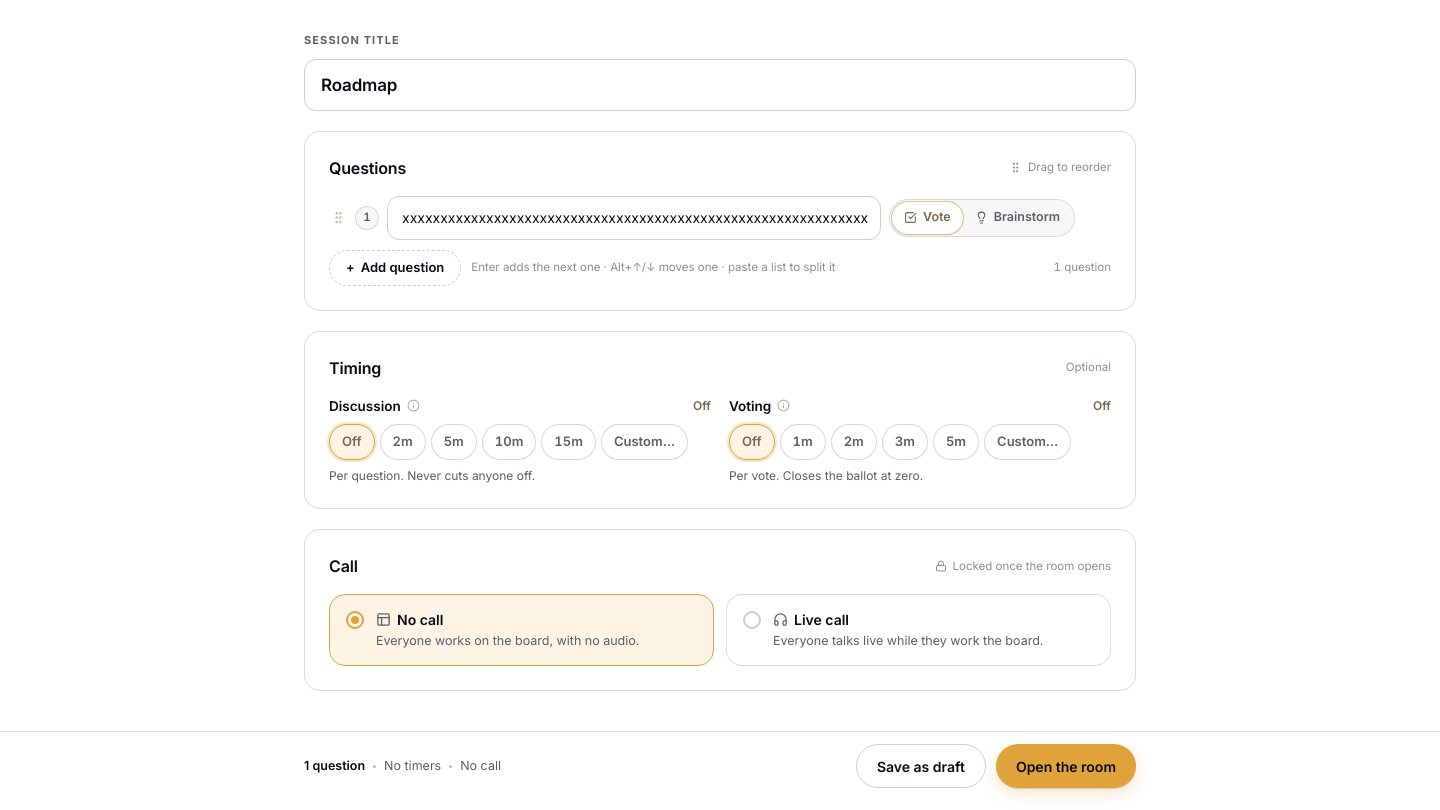
it: SessionQuestionsForm questions › counts the characters once a question nears the limit
Expected: the text "/150" is not shown
Type "yyyyy" into the field named "Question 1" at (634, 218), box [387, 196, 881, 240]
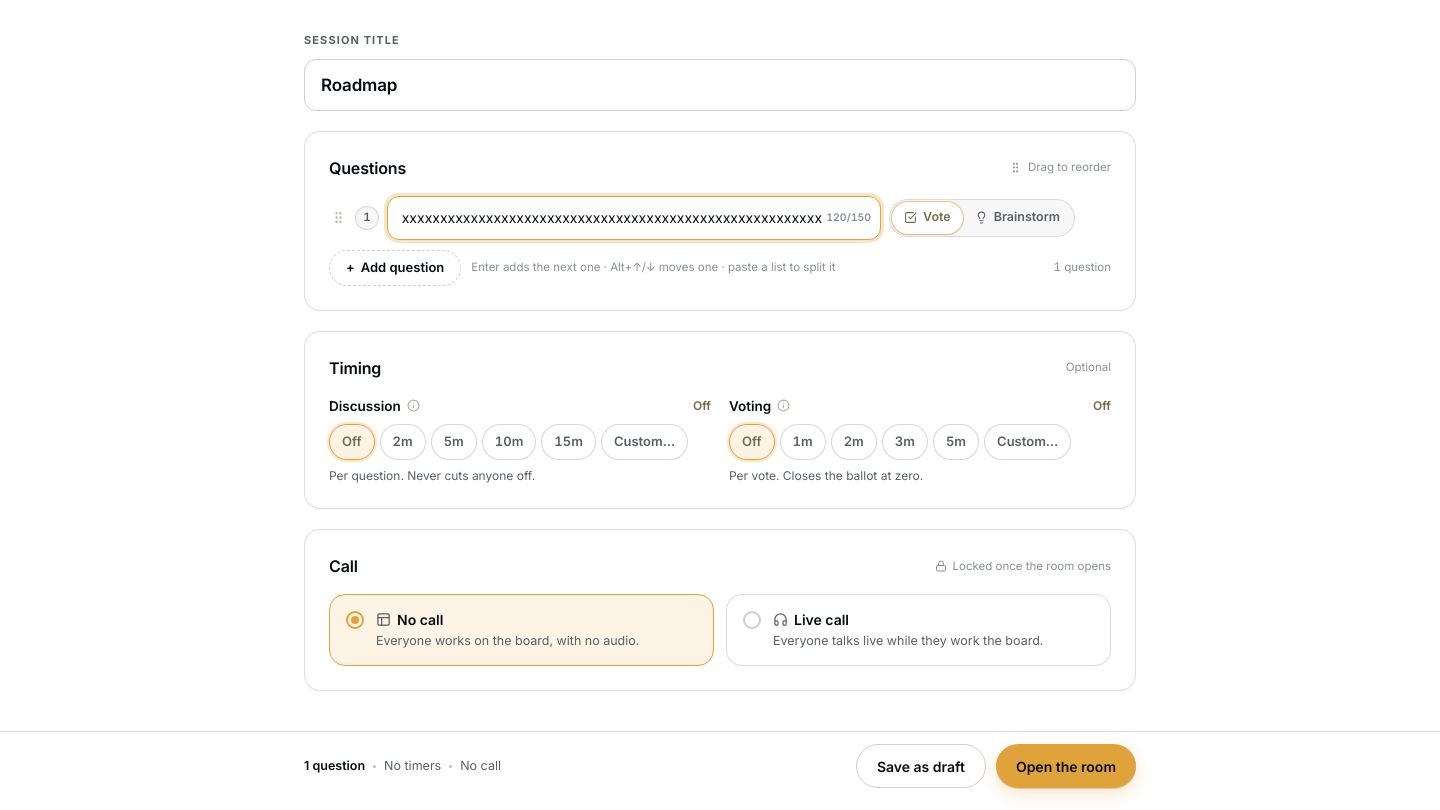
Result: the text "120/150" is shown at [826, 210, 871, 225]
